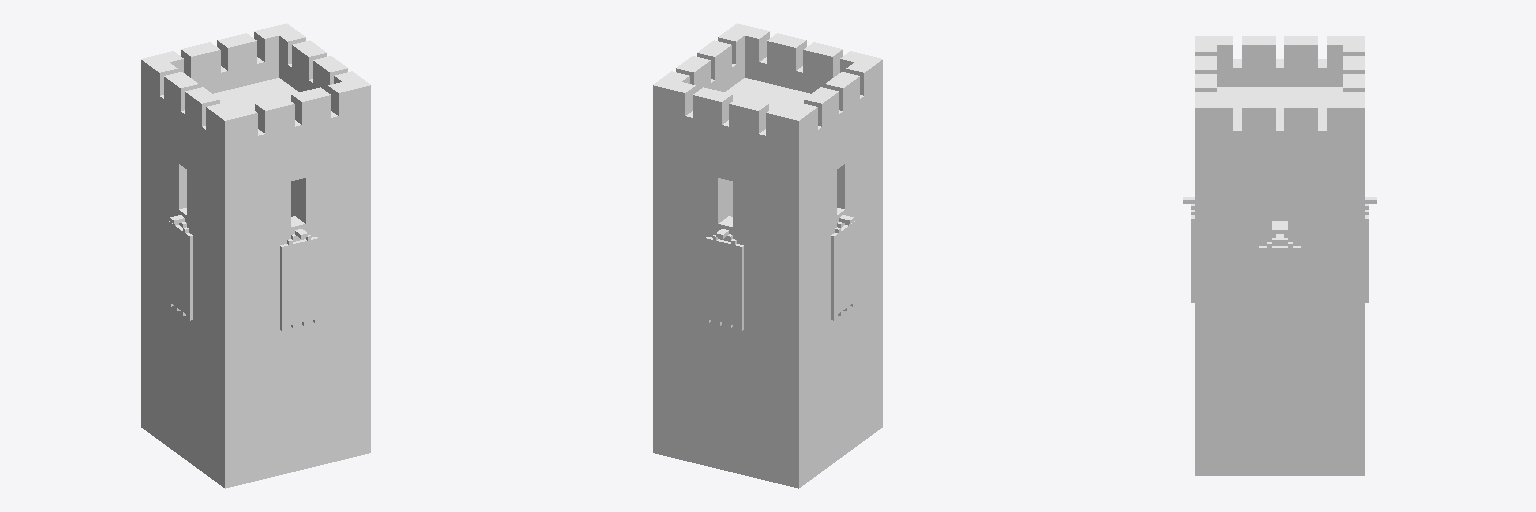
The model's file is struct-4-crossbow_tower.obj.
3 renders of one model, left to right at view 1: azimuth 30°, elevation 25°; view 2: azimuth 150°, elevation 25°; view 3: azimuth 270°, elevation 25°, orthographic.
Parts seen in each view (by area): view 1: crossbow_tower; view 2: crossbow_tower; view 3: crossbow_tower.
Part boxes in pixels (x1,y1,x2,y2): crossbow_tower: (141,23,370,488); crossbow_tower: (653,23,882,488); crossbow_tower: (1183,36,1376,475).
Size of the model in its own units: 4.6 by 9.6 by 4.6.